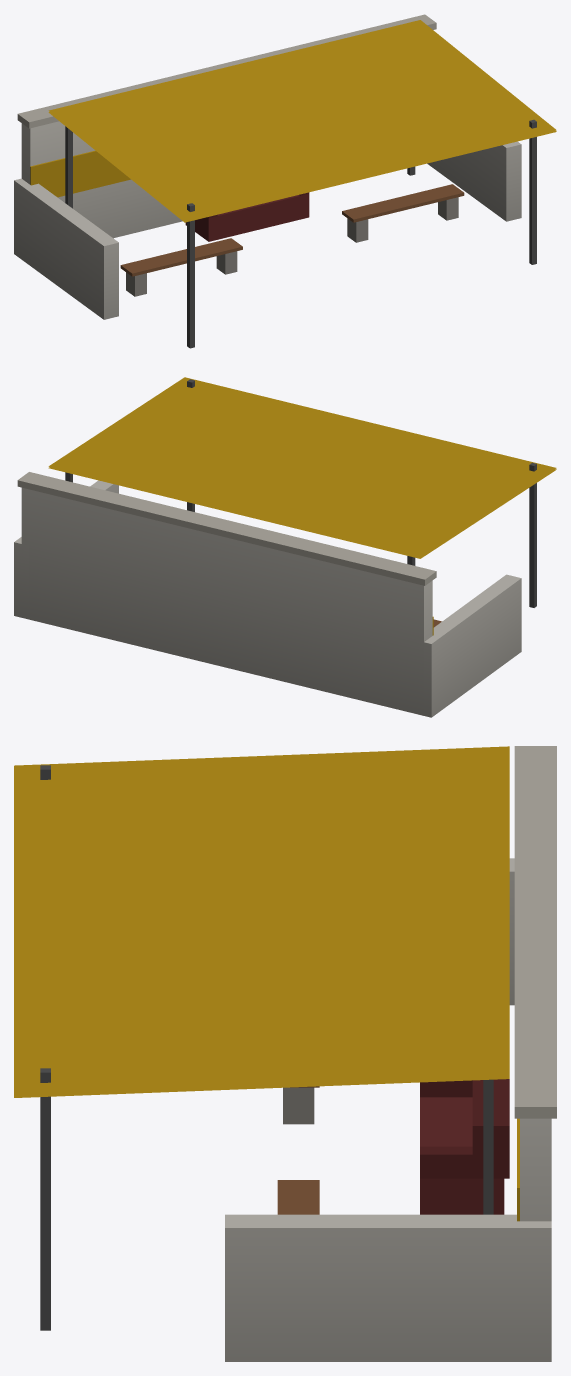
File: ub_base_yellow_lod1.glb
The picture shows the model from 3 angles, top to bottom: view 1: azimuth 30°, elevation 25°; view 2: azimuth 150°, elevation 25°; view 3: azimuth 270°, elevation 25°; orthographic projection. The views are drawn at different scales.
Visible parts, largest first — view 1: ub_base_yellow_lod1; view 2: ub_base_yellow_lod1; view 3: ub_base_yellow_lod1.
Part boxes in pixels (x1,y1,x2,y2): ub_base_yellow_lod1: (14,14,556,348); ub_base_yellow_lod1: (14,377,556,717); ub_base_yellow_lod1: (14,746,556,1361).
Bounding box in the file's own units: 8.3 × 2.78 × 5.15.
